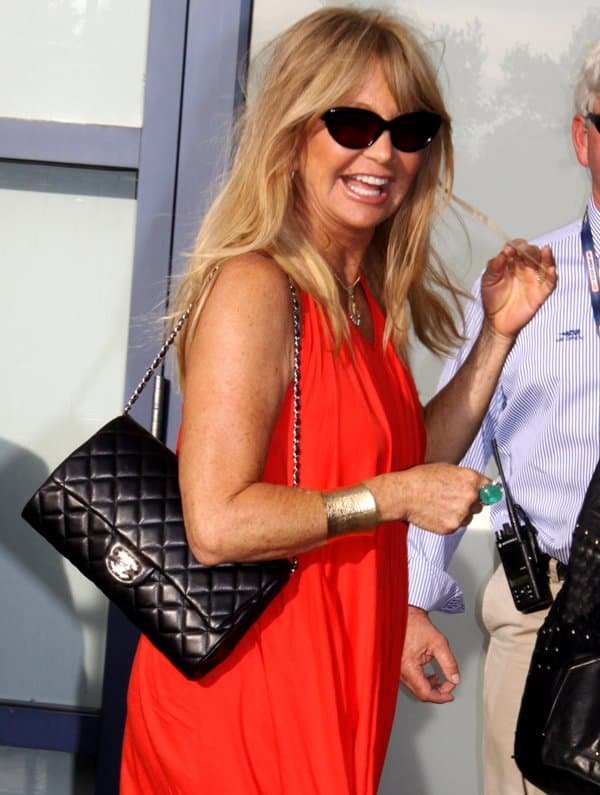channel: (23, 411, 263, 672), (88, 538, 150, 602)
